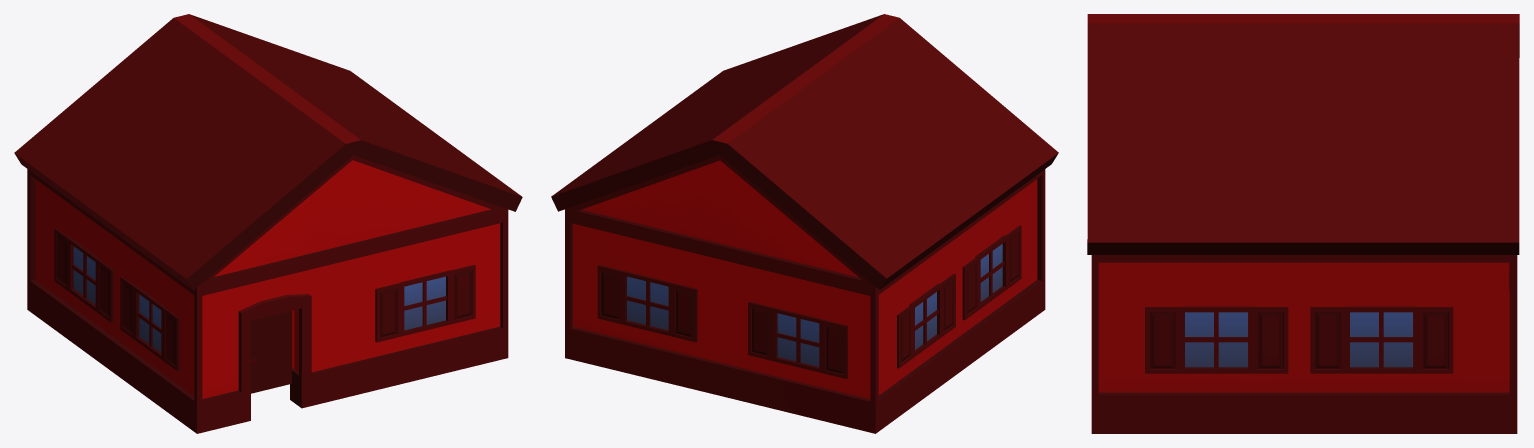
File: buildings-residential-oldcottage_v1.fbx
3 renders of one model, left to right at view 1: azimuth 30°, elevation 25°; view 2: azimuth 150°, elevation 25°; view 3: azimuth 270°, elevation 25°, orthographic. The views are drawn at different scales.
Parts seen in each view (by area): view 1: OldCottage_v1_base, OldCottage_v1_windowRefl; view 2: OldCottage_v1_base, OldCottage_v1_windowRefl; view 3: OldCottage_v1_base, OldCottage_v1_windowRefl.
Part boxes in pixels (x1=…): OldCottage_v1_base: x1=14, y1=14, x2=522, y2=433; OldCottage_v1_windowRefl: x1=73, y1=246, x2=445, y2=352; OldCottage_v1_base: x1=551, y1=14, x2=1058, y2=433; OldCottage_v1_windowRefl: x1=627, y1=244, x2=1002, y2=366; OldCottage_v1_base: x1=1087, y1=14, x2=1519, y2=433; OldCottage_v1_windowRefl: x1=1185, y1=312, x2=1412, y2=367.
Size of the model in its own units: 9.71 by 7.05 by 8.63.
